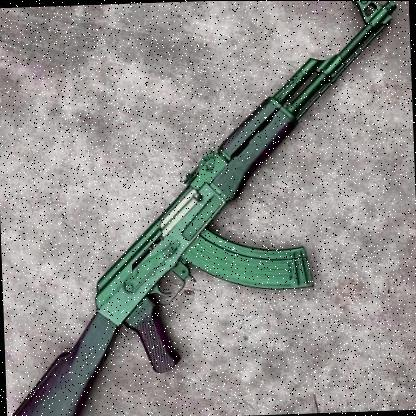rifle: (0, 3, 405, 416)
